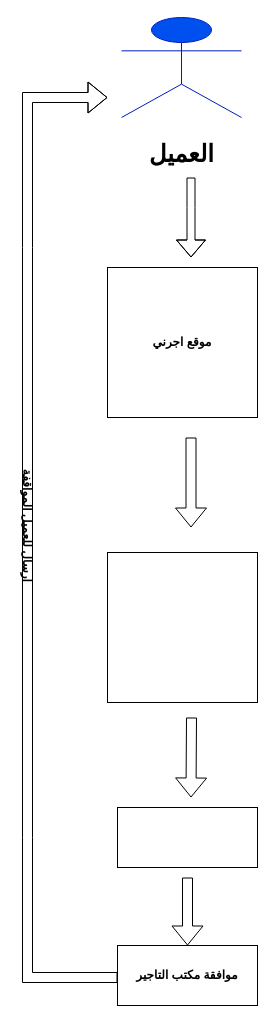
Some shapes in this 275 by 1023 pixel diagram are drawn without their labels. The centre of each missing label's shape, as x and y in pixels:
اختيار السيارة و تسجيل البيانات: point 182,627
دفع مبلغ تاكيد الحجز: point 187,837
